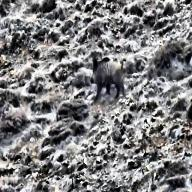boar: (90, 57, 131, 96)
